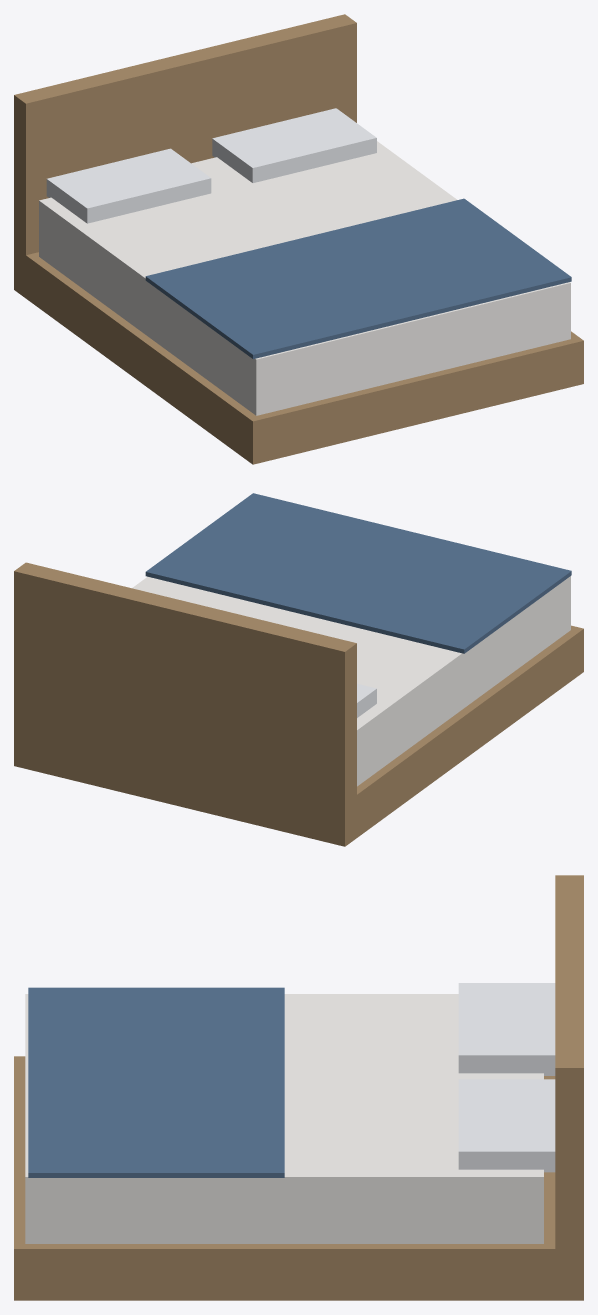
The model's file is bed.glb.
The picture shows the model from 3 angles, top to bottom: view 1: azimuth 30°, elevation 25°; view 2: azimuth 150°, elevation 25°; view 3: azimuth 270°, elevation 25°; orthographic projection. The views are drawn at different scales.
Parts seen in each view (by area): view 1: Mattress, BlanketFold, Headboard, Frame, Pillow_L, Pillow_R; view 2: Headboard, BlanketFold, Frame, Mattress, Pillow_L; view 3: Mattress, BlanketFold, Frame, Headboard, Pillow_R, Pillow_L.
Boxes of the visible parts, x1,y1,x2,y2 form: Mattress: (39, 141, 570, 415); BlanketFold: (145, 198, 571, 359); Headboard: (14, 14, 356, 275); Frame: (14, 247, 583, 464); Pillow_L: (46, 148, 211, 223); Pillow_R: (212, 108, 376, 182); Headboard: (14, 562, 356, 824); BlanketFold: (145, 493, 571, 653); Frame: (14, 625, 583, 846); Mattress: (132, 576, 570, 786); Pillow_L: (357, 683, 376, 717); Mattress: (25, 994, 543, 1243); BlanketFold: (28, 987, 284, 1177); Frame: (14, 1056, 583, 1300); Headboard: (555, 875, 583, 1274); Pillow_R: (458, 1079, 555, 1172); Pillow_L: (458, 983, 555, 1075).
Bounding box in the file's own units: 1.6 × 0.9 × 2.
